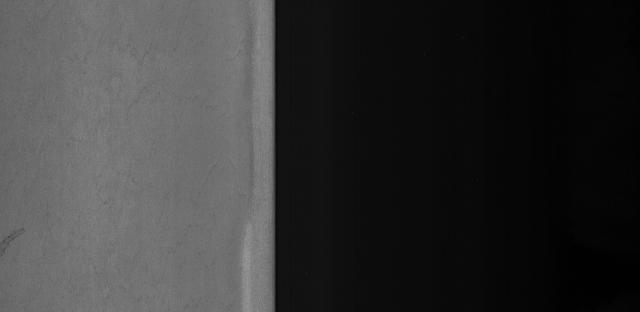water_spot: (3, 218, 35, 268)
